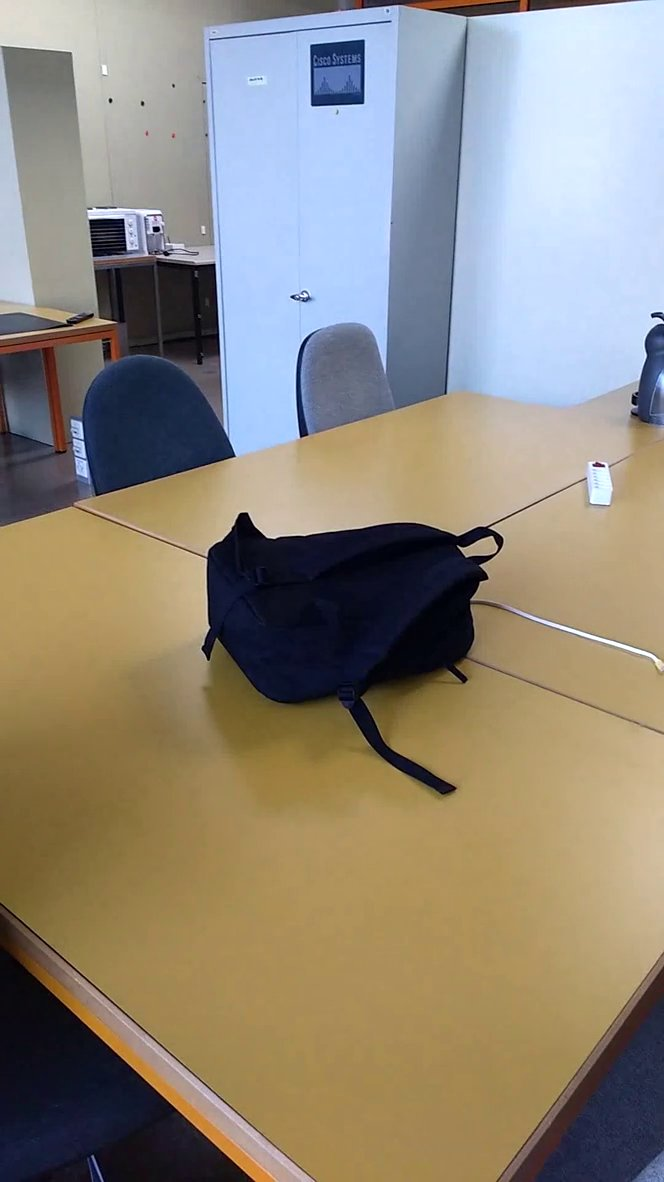bag: (170, 502, 518, 806)
chair: (71, 346, 253, 502), (286, 311, 413, 442)
